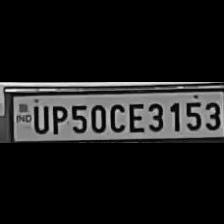0: (88, 100, 106, 132)
1: (164, 99, 182, 131)
3: (144, 99, 164, 131), (202, 98, 222, 130)
5: (67, 100, 87, 134), (181, 96, 201, 130)
C: (106, 100, 124, 132)
E: (125, 98, 144, 132)
P: (48, 100, 68, 134)
U: (29, 101, 48, 133)
